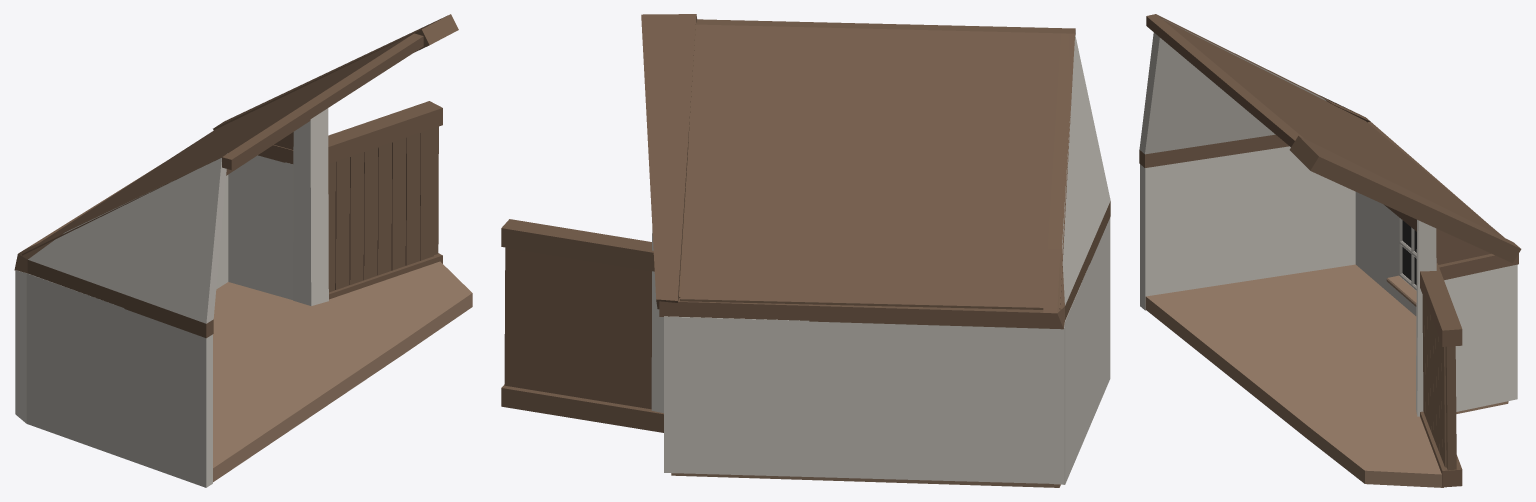
File: home_room_bedroom.fbx
3 renders of one model, left to right at view 1: azimuth 30°, elevation 25°; view 2: azimuth 150°, elevation 25°; view 3: azimuth 270°, elevation 25°, orthographic. The views are drawn at different scales.
Parts seen in each view (by area): view 1: pCube174, floor, pCube175, wallplanks, pCube178, pCube173; view 2: pCube178, pCube174, wallplanks, pCube175, floor, pCube173; view 3: pCube174, floor, pCube178, pCube175, wallplanks, pCube173, pCube181, pasted__pCube685, pasted__pCube684, pCube182.
Part boxes in pixels (x1=…): pCube174: x1=15, y1=155, x2=293, y2=487; floor: x1=213, y1=261, x2=472, y2=481; pCube175: x1=14, y1=145, x2=293, y2=338; wallplanks: x1=328, y1=101, x2=442, y2=299; pCube178: x1=22, y1=14, x2=458, y2=255; pCube173: x1=293, y1=108, x2=328, y2=306; pCube178: x1=641, y1=14, x2=1075, y2=309; pCube174: x1=664, y1=218, x2=1110, y2=484; wallplanks: x1=501, y1=219, x2=663, y2=432; pCube175: x1=659, y1=34, x2=1110, y2=329; floor: x1=671, y1=473, x2=1060, y2=487; pCube173: x1=651, y1=230, x2=663, y2=413; pCube174: x1=1140, y1=146, x2=1517, y2=411; floor: x1=1145, y1=264, x2=1508, y2=487; pCube178: x1=1146, y1=14, x2=1521, y2=263; pCube175: x1=1139, y1=17, x2=1518, y2=280; wallplanks: x1=1420, y1=263, x2=1462, y2=487; pCube173: x1=1416, y1=220, x2=1436, y2=416; pCube181: x1=1436, y1=230, x2=1490, y2=264; pasted__pCube685: x1=1402, y1=220, x2=1416, y2=285; pasted__pCube684: x1=1399, y1=217, x2=1416, y2=290; pCube182: x1=1386, y1=275, x2=1416, y2=306.
Bounding box in the file's own units: 12.66 × 8.36 × 9.36.
